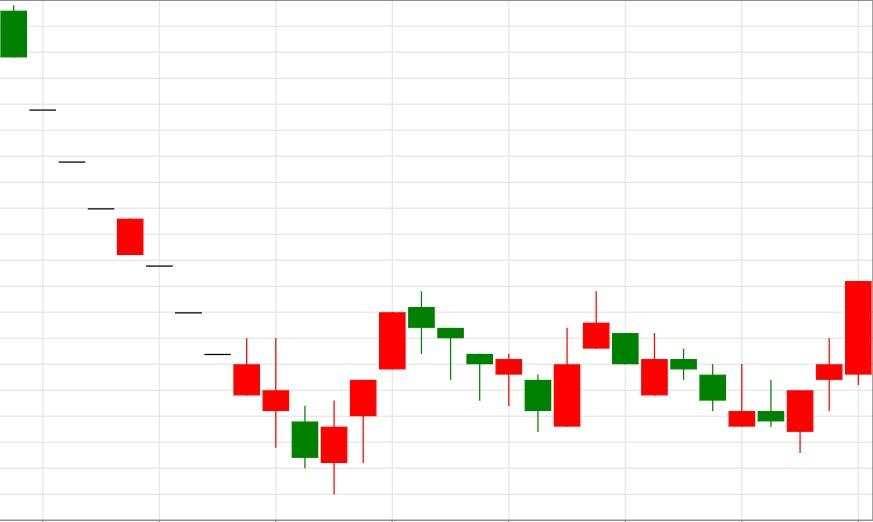three_white_soldiers_rise: (0, 5, 407, 496)
